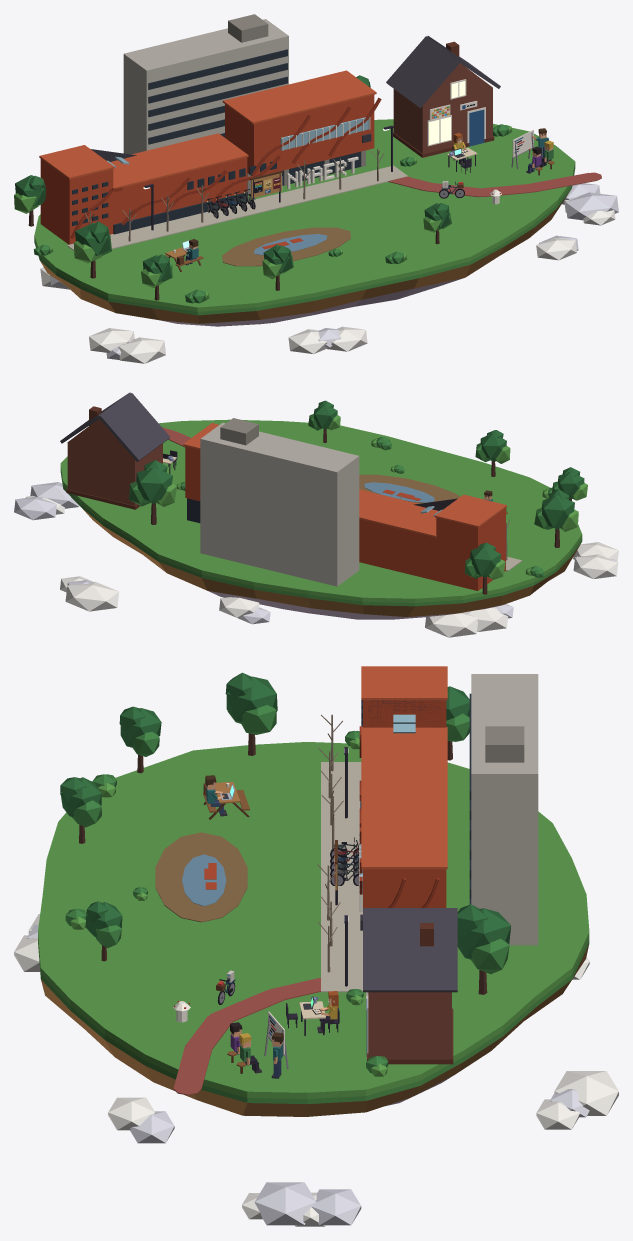
File: career-student.glb
3 views of the same model, one above another, from view 1: azimuth 30°, elevation 25°; view 2: azimuth 150°, elevation 25°; view 3: azimuth 270°, elevation 25° (orthographic). The views are drawn at different scales.
Visible parts, largest first — view 1: plinth, minnaert_walls, uithof_slab, house, grounds, clouds, greenery, minnaert_letters, saplings, board, whiteboard; view 2: plinth, uithof_slab, minnaert_walls, house, greenery, clouds, grounds; view 3: plinth, minnaert_walls, grounds, uithof_slab, house, greenery, clouds, saplings, zd_table.
Part boxes in pixels (x1,y1,x2,y2): plinth: (34, 119, 575, 326); minnaert_walls: (39, 70, 381, 244); uithof_slab: (123, 14, 288, 154); house: (386, 36, 500, 157); grounds: (67, 165, 601, 266); clouds: (40, 183, 618, 363); greenery: (14, 75, 511, 303); minnaert_letters: (282, 156, 358, 190); saplings: (85, 149, 383, 241); board: (250, 170, 282, 208); whiteboard: (511, 130, 534, 169); plinth: (60, 419, 582, 619); uithof_slab: (200, 418, 359, 586); minnaert_walls: (183, 423, 506, 590); house: (60, 392, 170, 509); greenery: (129, 400, 587, 594); clouds: (14, 482, 618, 637); grounds: (162, 427, 522, 571); plinth: (38, 742, 589, 1116); minnaert_walls: (359, 666, 447, 930); grounds: (155, 762, 362, 1095); uithof_slab: (469, 674, 538, 945); house: (363, 908, 457, 1064); greenery: (60, 672, 510, 1076); clouds: (14, 914, 618, 1226); saplings: (317, 714, 343, 972); zd_table: (286, 996, 339, 1035).
Bounding box in the file's own units: 33.92 × 12.6 × 21.74.
